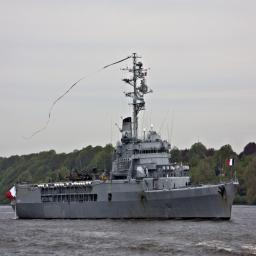Portanaves: (9, 49, 241, 223)
